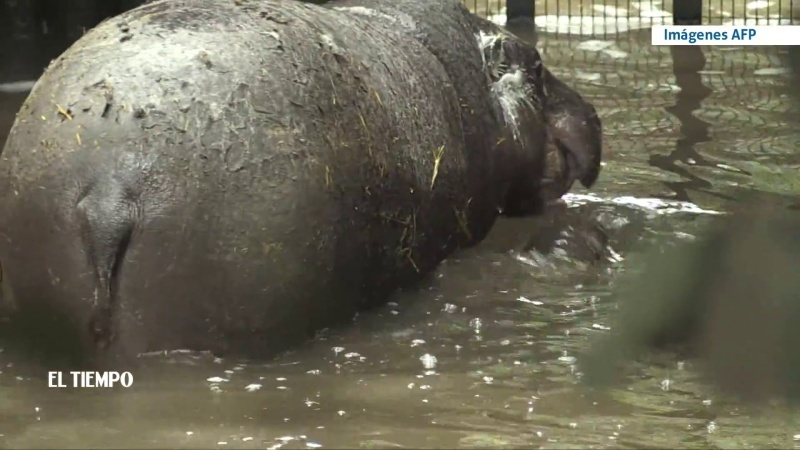hipopotamo: (1, 1, 613, 361)
